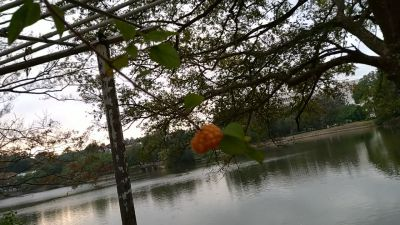eggs: (188, 122, 224, 156)
